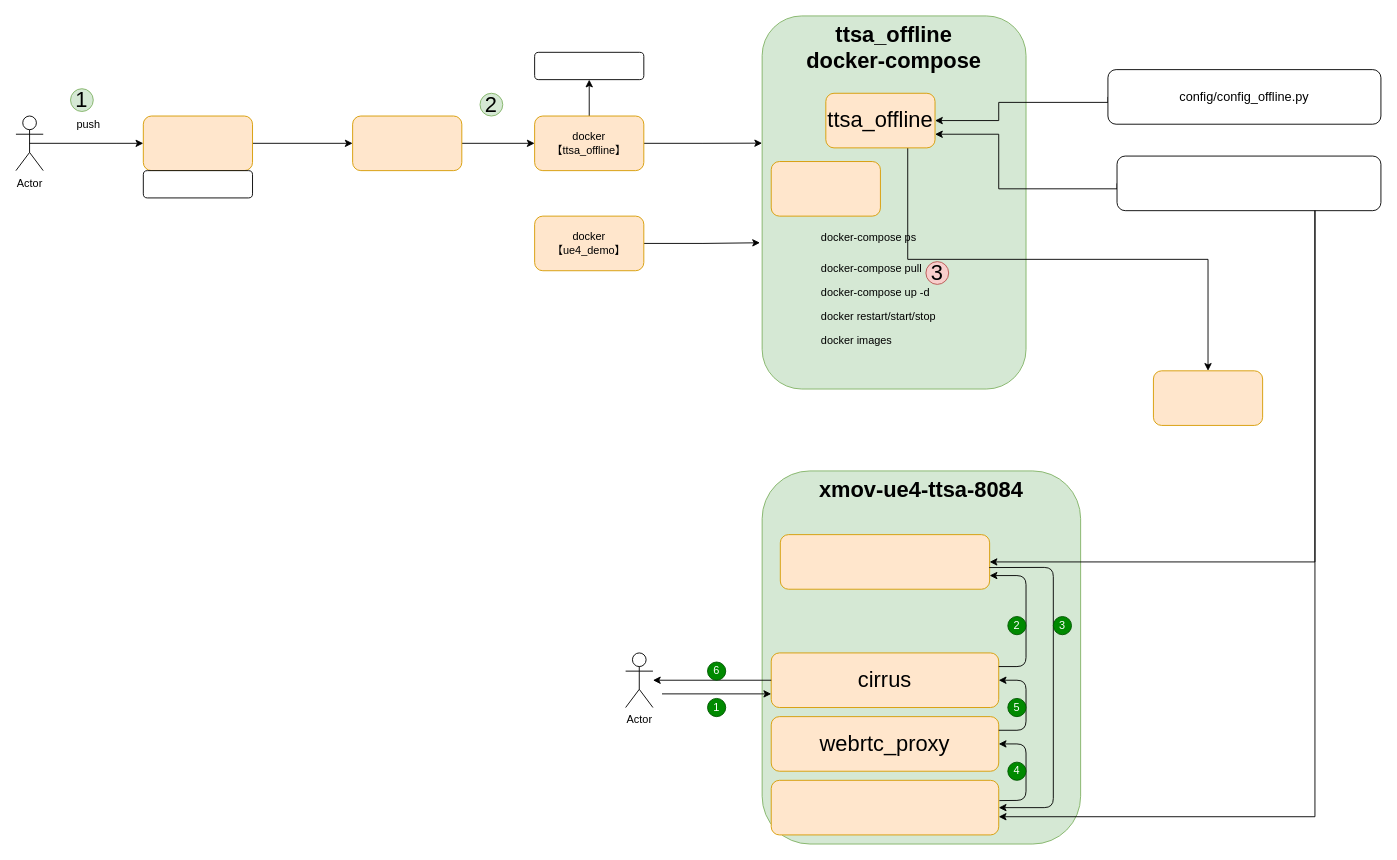
This 1397x860 diagram has some shape labels left out. The shapes that lost their labels are listed below. From the top down, each one's centre as x and y in pixels, then its label:
(x=589, y=65): dockerfile
(x=197, y=143): git-repo
(x=407, y=143): CI
(x=197, y=184): .gitlab-ci.yml
(x=825, y=188): ue4_demo
(x=1248, y=183): /data/ttsa_offline/results:/data/ttsa_offline/results
(x=1208, y=397): docker TTSA
(x=884, y=561): ttsa_backend_offline
(x=884, y=807): ue_streaming
